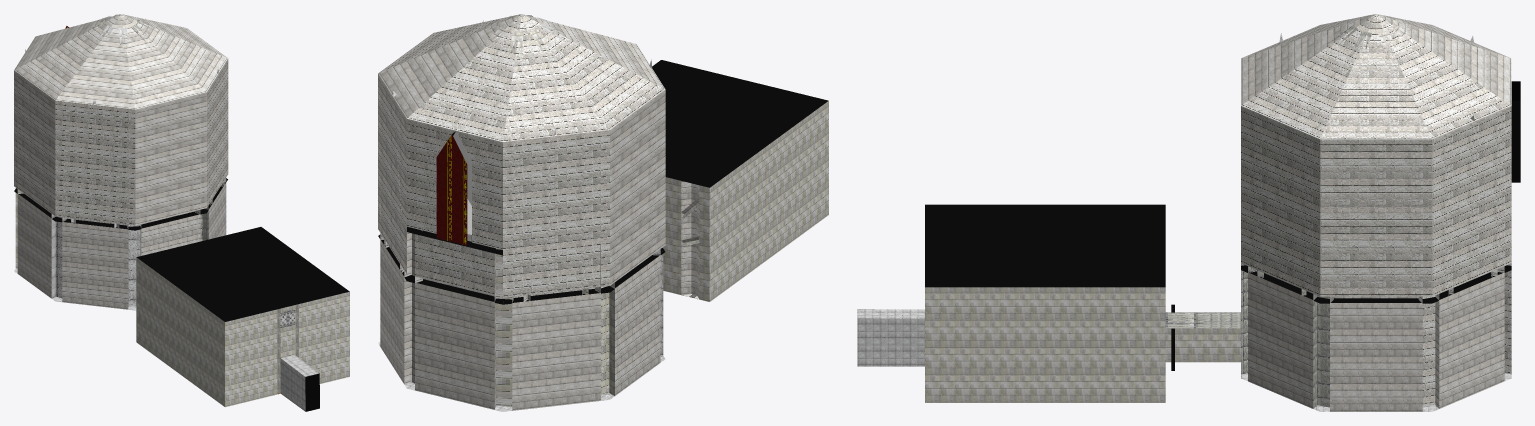
Rendered from TempleofTime.obj.
3 views of the same model, side by side, from view 1: azimuth 30°, elevation 25°; view 2: azimuth 150°, elevation 25°; view 3: azimuth 270°, elevation 25° (orthographic). The views are drawn at different scales.
Visible parts, largest first — view 1: TempleofTime; view 2: TempleofTime; view 3: TempleofTime.
Part boxes in pixels (x1,y1,x2,y2): TempleofTime: (14, 14, 349, 411); TempleofTime: (378, 14, 828, 411); TempleofTime: (857, 14, 1520, 411).
Size of the model in its own units: 576 by 816 by 1411.
